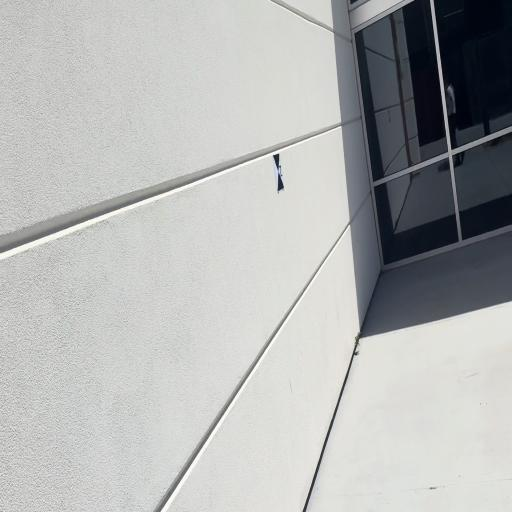target7: (273, 153, 285, 192)
